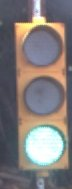Green: (6, 21, 68, 169)
